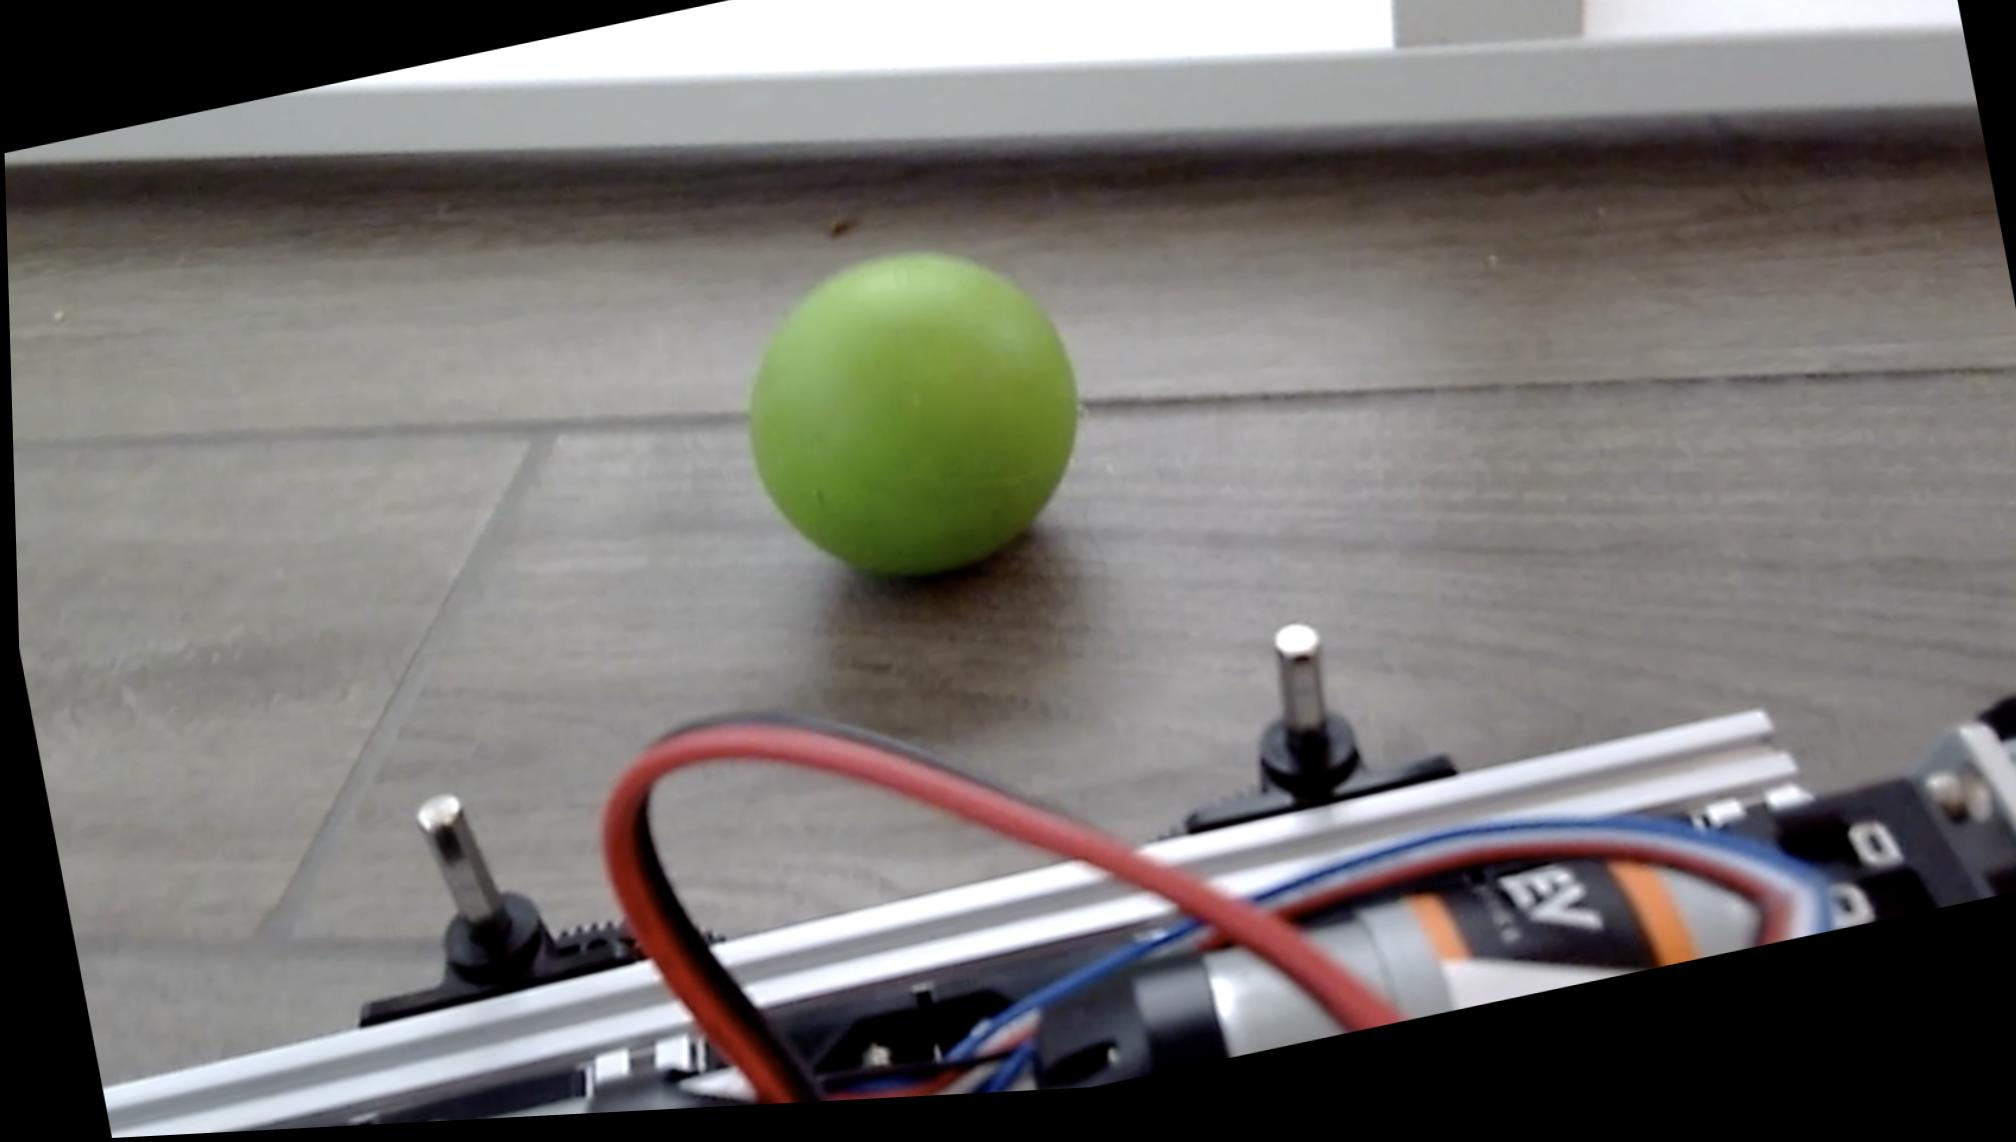greenball: (714, 226, 1105, 620)
